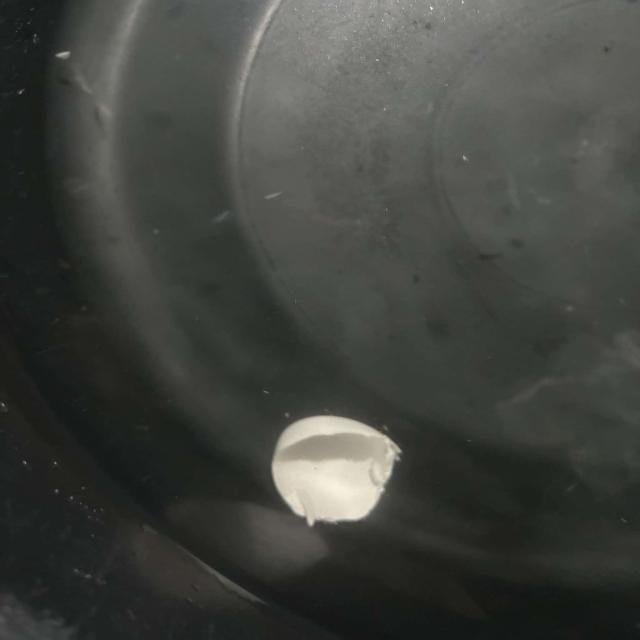Eggshell: (271, 415, 401, 527)
